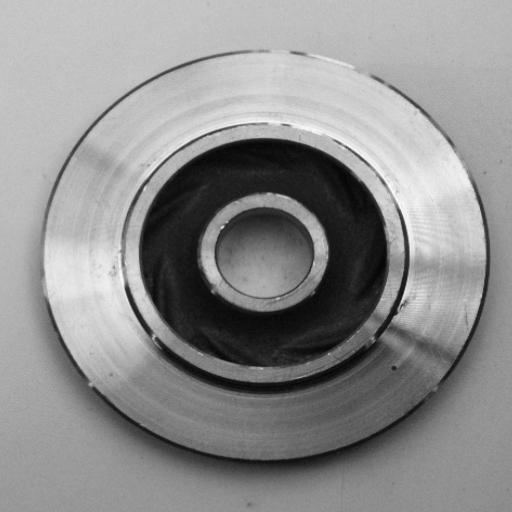pit: (384, 359, 405, 379)
scratch: (247, 36, 372, 85), (257, 109, 357, 151), (112, 221, 139, 296), (385, 285, 417, 338)
unpolished_casting: (39, 41, 490, 467)
